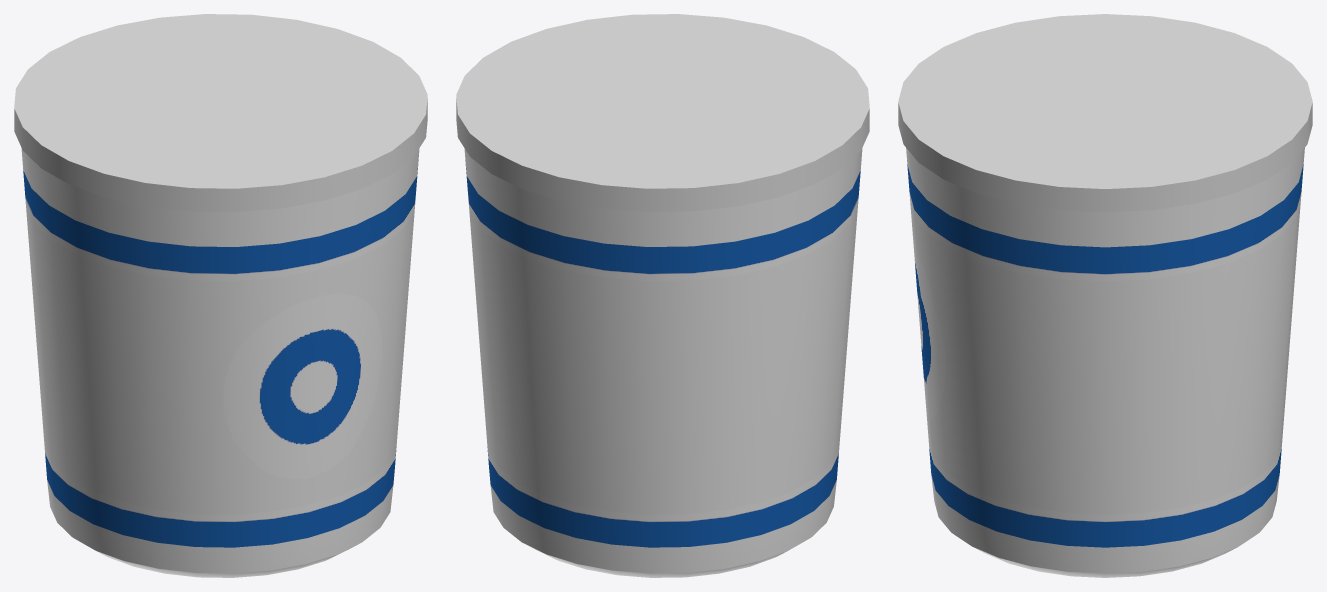
Rendered from Greek_Yogurt.fbx.
3 renders of one model, left to right at view 1: azimuth 30°, elevation 25°; view 2: azimuth 150°, elevation 25°; view 3: azimuth 270°, elevation 25°, orthographic.
Parts seen in each view (by area): view 1: Greek_Yogurt; view 2: Greek_Yogurt; view 3: Greek_Yogurt.
Boxes of the visible parts, x1,y1,x2,y2 form: Greek_Yogurt: [14, 14, 427, 577]; Greek_Yogurt: [456, 14, 869, 577]; Greek_Yogurt: [898, 14, 1312, 577].
Bounding box in the file's own units: 0.0968 × 0.106 × 0.0968.
Materials: 3 (1 with a texture image).
